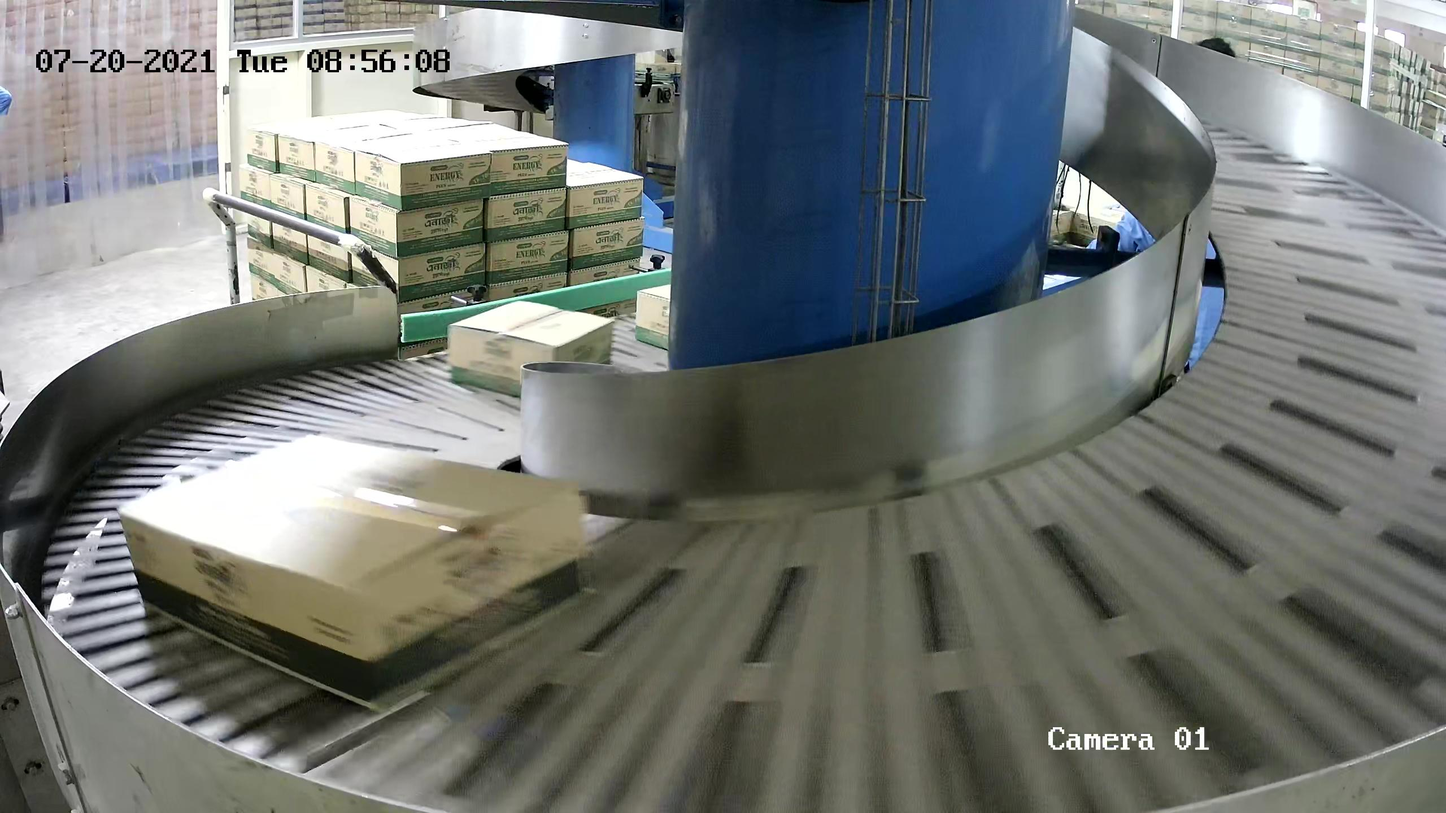Box: (117, 429, 591, 717), (446, 298, 617, 400), (634, 283, 671, 350)
